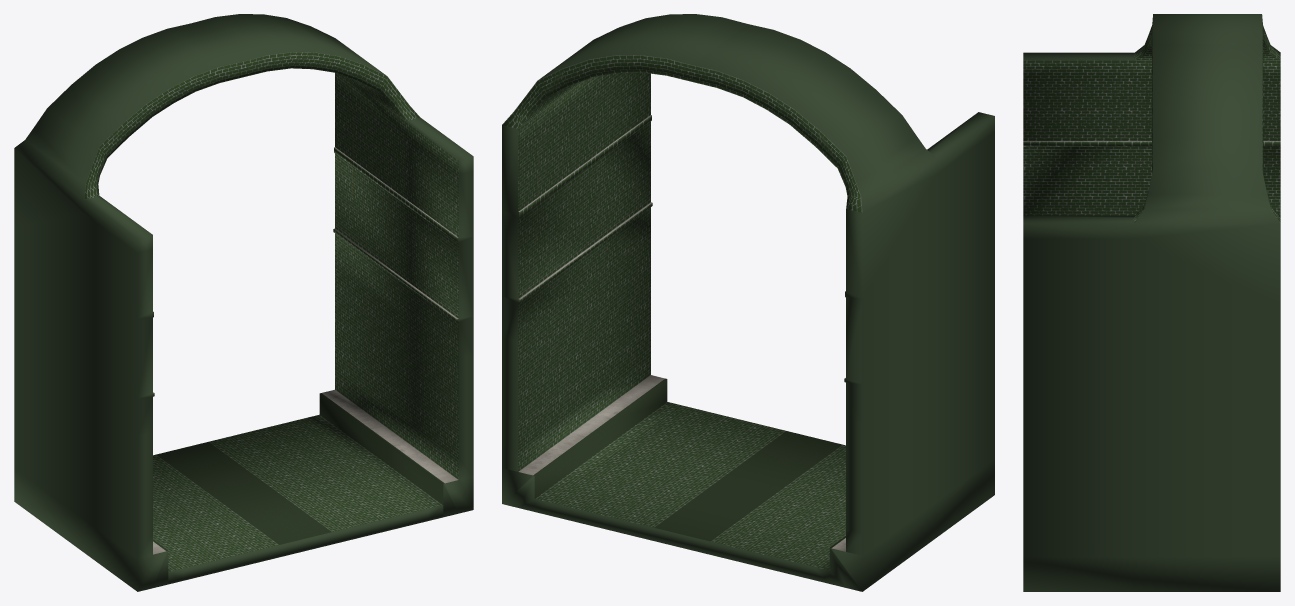
File: SewerModule_BigModule_1.fbx
3 renders of one model, left to right at view 1: azimuth 30°, elevation 25°; view 2: azimuth 150°, elevation 25°; view 3: azimuth 270°, elevation 25°, orthographic. The views are drawn at different scales.
Visible parts, largest first — view 1: Big_Start.006; view 2: Big_Start.006; view 3: Big_Start.006.
Part boxes in pixels (x1=…): Big_Start.006: x1=14, y1=14, x2=473, y2=591; Big_Start.006: x1=502, y1=14, x2=994, y2=591; Big_Start.006: x1=1023, y1=14, x2=1280, y2=591.
Bounding box in the file's own units: 2200 × 2778 × 1400.
